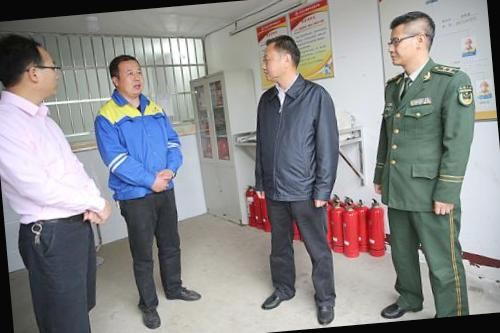no_helmet: (0, 25, 62, 107), (383, 7, 442, 70), (258, 28, 304, 88), (105, 50, 148, 101)
